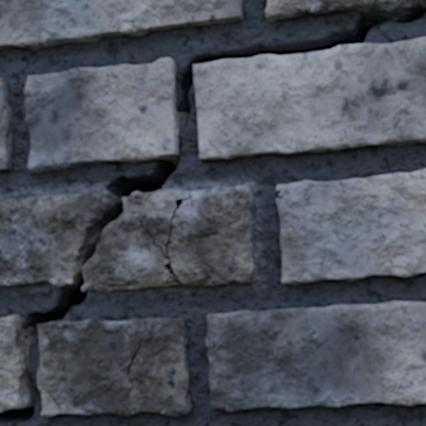brick: (194, 37, 425, 159), (206, 301, 425, 410), (24, 58, 176, 172), (277, 169, 425, 284), (37, 318, 191, 415), (0, 0, 242, 49), (266, 0, 425, 20), (0, 315, 26, 410), (0, 79, 12, 169)
broken_brick: (83, 185, 256, 293), (0, 191, 110, 288)
crack: (0, 2, 425, 424), (138, 194, 192, 287), (206, 335, 220, 349), (275, 188, 283, 198), (112, 287, 118, 289)
